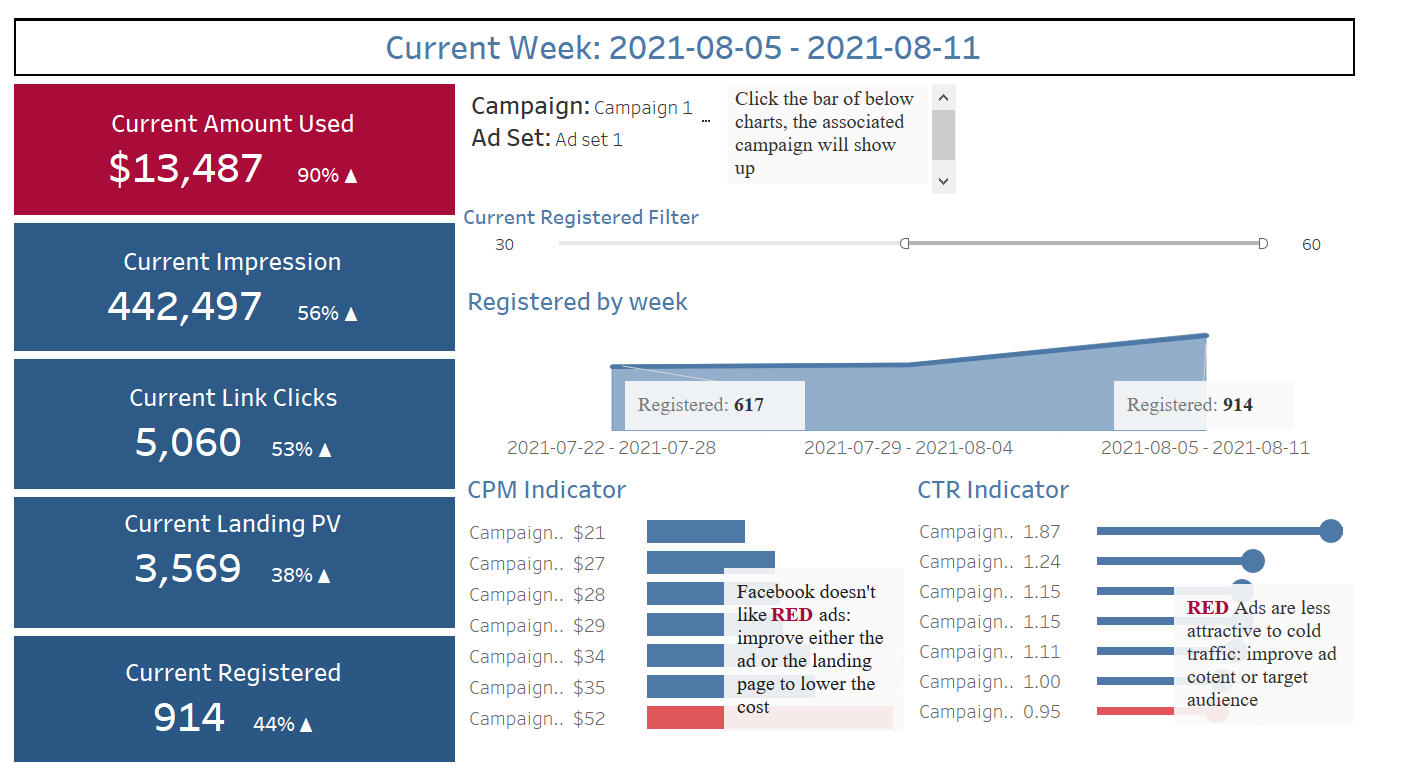

Layout of this report page (visuals, bound fields, positions):
{"tool":"tableau","page":{"name":"Weekly Performance Dashboard","canvas":[1366,768],"ordinal":0},"visuals":[{"type":"worksheet","box":[0,0,1366,768]},{"type":"worksheet","param":"horz","box":[8,8,1350,752]},{"type":"worksheet","box":[8,8,1350,752]},{"type":"worksheet","title":"Current Week","mark":"Square","rows":["Calculation_1944710624467496966"],"box":[8,8,1350,66]},{"type":"worksheet","param":"horz","box":[8,74,450,686]},{"type":"worksheet","box":[8,74,450,686]},{"type":"worksheet","title":"Amount ComparisonV2","mark":"Square","rows":["Calculation_1944710624467496966"],"box":[8,74,450,138.6]},{"type":"worksheet","title":"CPM","mark":"Bar","rows":["Calculation_1944710624495136790","CPM (cost per 1,000 impressions)"],"cols":["CPM (cost per 1,000 impressions)"],"param":"[federated.0qp5gwi0xw9vyw1d9yvrb0gys711].[usr:CurrentLinkClicks (copy)_194471062","box":[458,74,900,93]},{"type":"worksheet","title":"Whole Name","mark":"Automatic","box":[458,167,900,182]},{"type":"worksheet","title":"Impression","mark":"Square","rows":["Calculation_1944710624467496966"],"box":[8,212.6,450,136.8]},{"type":"worksheet","title":"CPM","mark":"Bar","rows":["Calculation_1944710624495136790","CPM (cost per 1,000 impressions)"],"cols":["CPM (cost per 1,000 impressions)"],"box":[458,349,450,411]},{"type":"worksheet","title":"CTR","mark":"Automatic","rows":["Calculation_1944710624495136790","Calculation_1944710624499200025"],"cols":["Calculation_1944710624499200025","Calculation_1944710624499200025"],"box":[908,349,450,411]},{"type":"worksheet","title":"LinkClicks","mark":"Square","rows":["Calculation_1944710624467496966"],"box":[8,349.5,450,137.7]},{"type":"worksheet","title":"LandingPV","mark":"Square","rows":["Calculation_1944710624467496966"],"box":[8,487.2,450,138.7]},{"type":"worksheet","title":"Registered","mark":"Square","rows":["Calculation_1944710624467496966"],"box":[8,625.9,450,134.1]}]}

Visuals, with their boxes in screenshot pixels (x1, y1, x2, y2), scaled from the page's 1366x768 canvas onto the 1418x781 screenshot:
worksheet: crop(0, 0, 1417, 780)
worksheet: crop(8, 8, 1410, 773)
worksheet: crop(8, 8, 1410, 773)
"Current Week" worksheet (Square marks): crop(8, 8, 1410, 75)
worksheet: crop(8, 75, 475, 773)
worksheet: crop(8, 75, 475, 773)
"Amount ComparisonV2" worksheet (Square marks): crop(8, 75, 475, 216)
"CPM" worksheet (Bar marks): crop(475, 75, 1410, 170)
"Whole Name" worksheet: crop(475, 170, 1410, 355)
"Impression" worksheet (Square marks): crop(8, 216, 475, 355)
"CPM" worksheet (Bar marks): crop(475, 355, 943, 773)
"CTR" worksheet: crop(943, 355, 1410, 773)
"LinkClicks" worksheet (Square marks): crop(8, 355, 475, 495)
"LandingPV" worksheet (Square marks): crop(8, 495, 475, 636)
"Registered" worksheet (Square marks): crop(8, 636, 475, 773)
